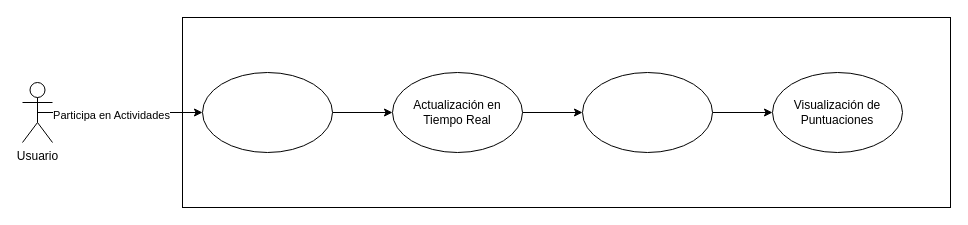
Image size: 968x225. Some labels were removed from this diagram. Here are the shapes that lost their labels. From the top down, the centre of each, then its label:
At [267,112]: "Registro de Puntos".
At [647,112]: "Almacenamiento de Puntuaciones".
